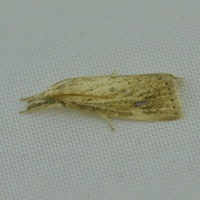insect: (20, 73, 183, 131)
